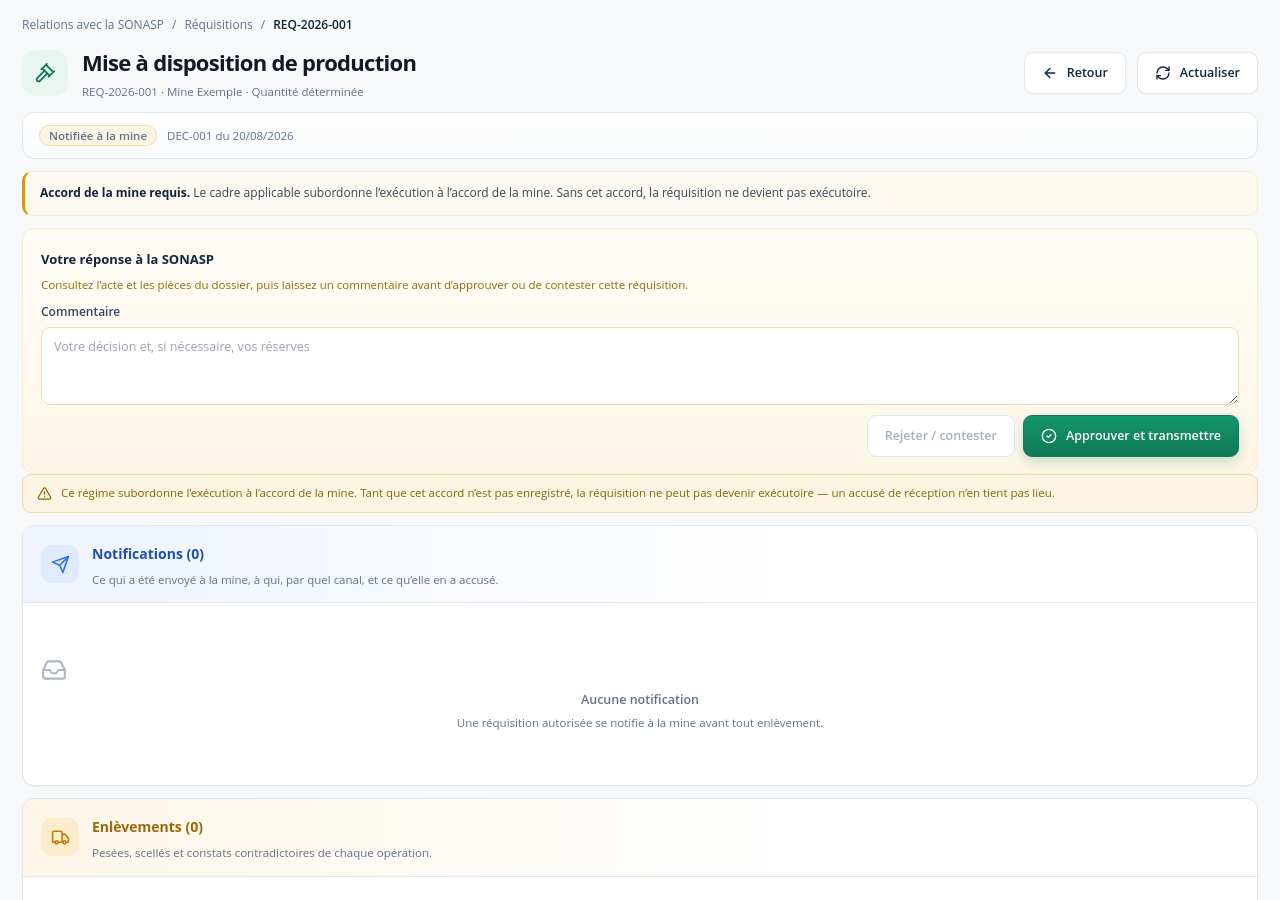
Test case: RequisitionDetails — réception Société minière › affiche le refus serveur sans annoncer une transition réussie
Type "Accord après contrôle" into the text box labelled "Commentaire" at {"x": 640, "y": 366}, box [41,327,1239,405]
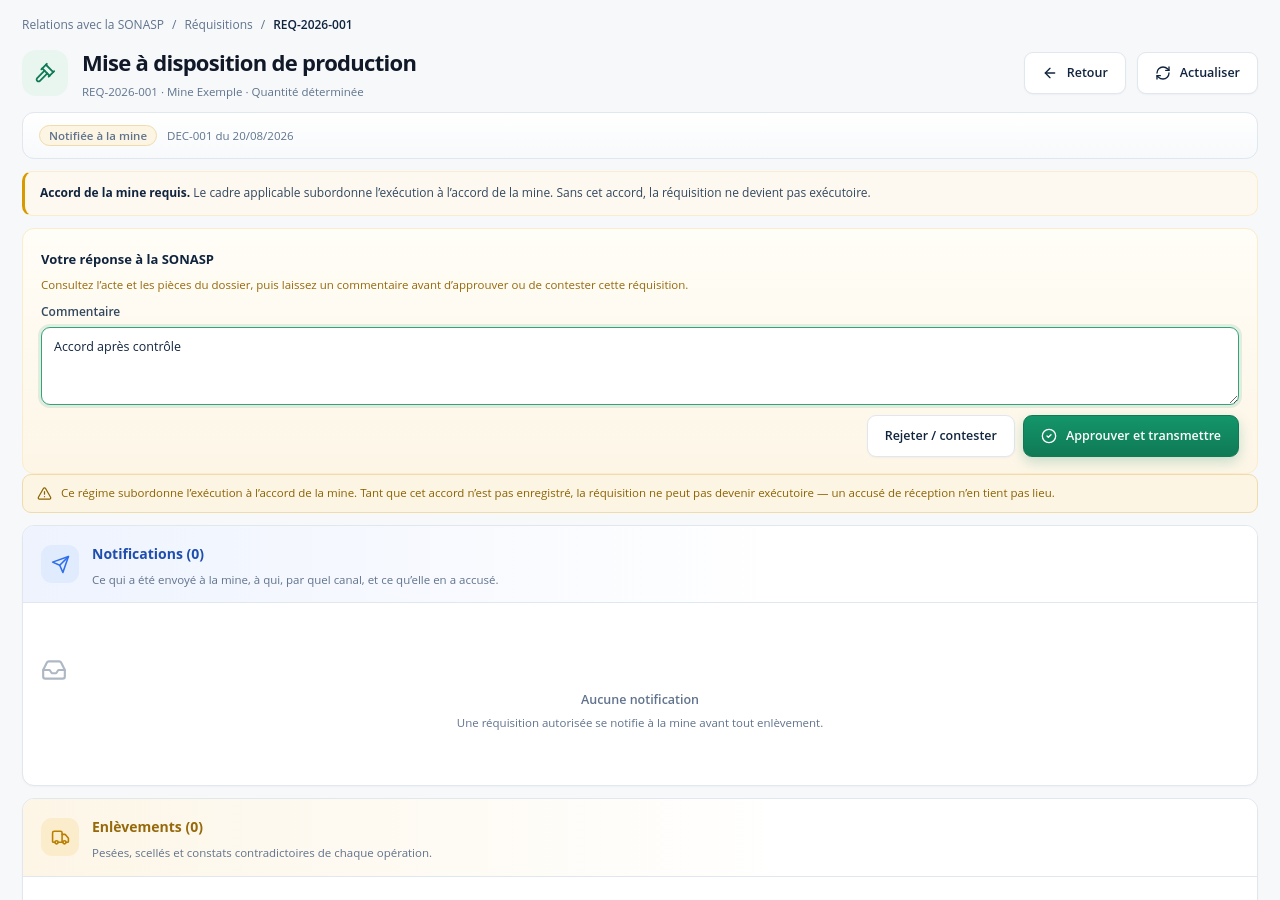
Click the button "Approuver et transmettre" at {"x": 1131, "y": 436}, box [1023,415,1239,457]
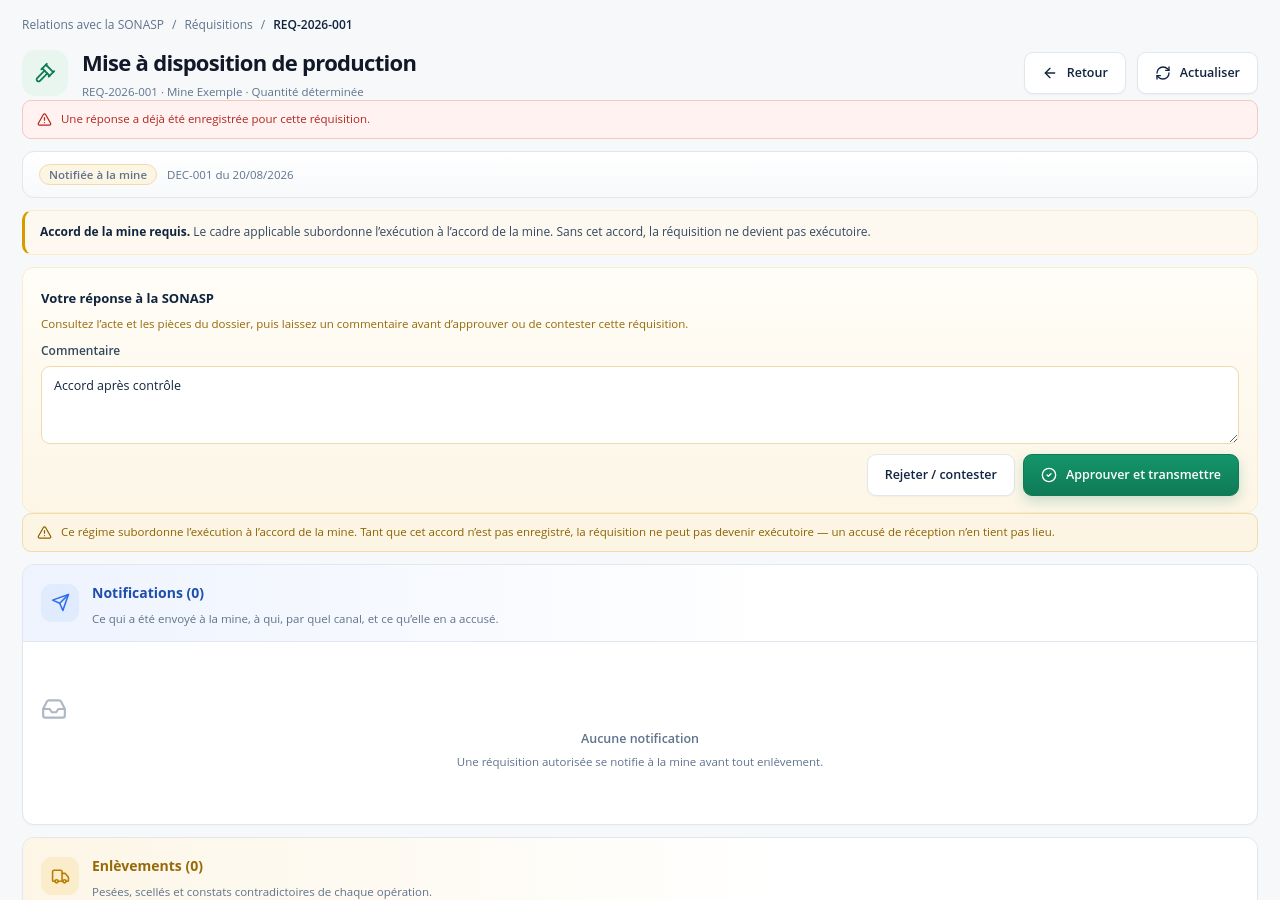
expect the text "Une réponse a déjà été enregistrée pour cette réquisition." is shown: met, box [61,111,370,128]
